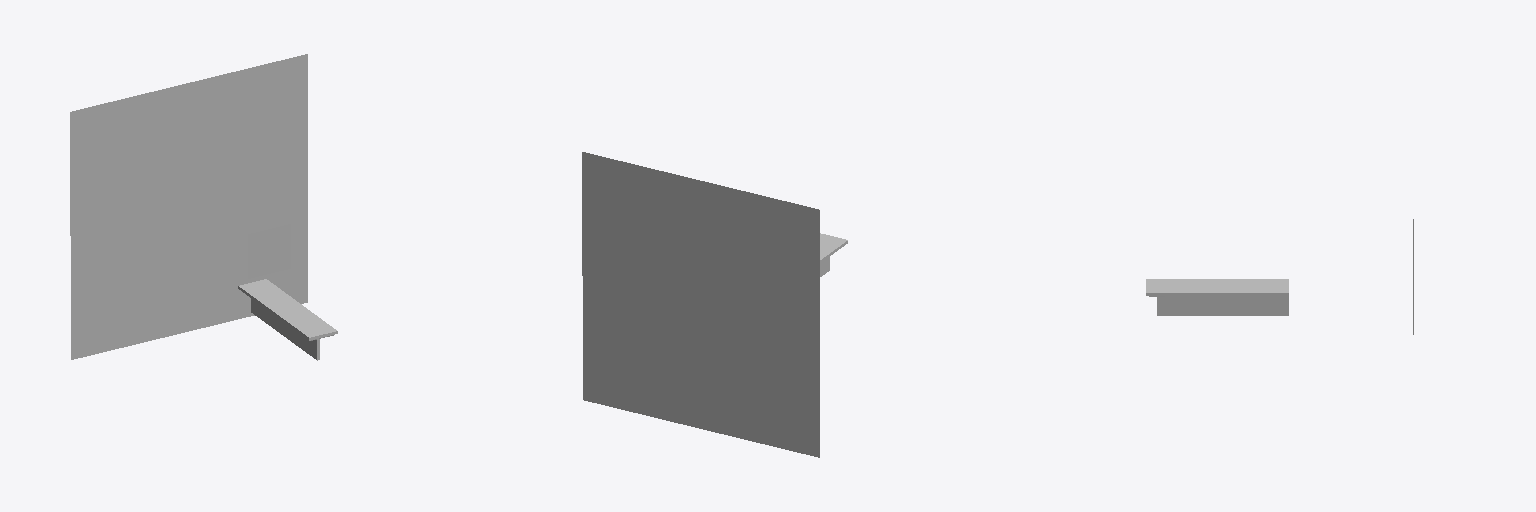
3 views of the same model, side by side, from view 1: azimuth 30°, elevation 25°; view 2: azimuth 150°, elevation 25°; view 3: azimuth 270°, elevation 25° (orthographic).
Parts seen in each view (by area): view 1: Plane, Cube, ChatGPT_Image_20_мая_2025_г.,_20_52_09rr; view 2: Plane, Cube; view 3: Cube.
Part boxes in pixels (x1,y1,x2,y2): Plane: (70,54,307,359); Cube: (238,279,337,360); ChatGPT_Image_20_мая_2025_г.,_20_52_09rr: (248,224,290,278); Plane: (582,152,819,457); Cube: (820,233,847,276); Cube: (1146,279,1288,315).
Size of the model in its own units: 18.29 by 18.29 by 17.84.